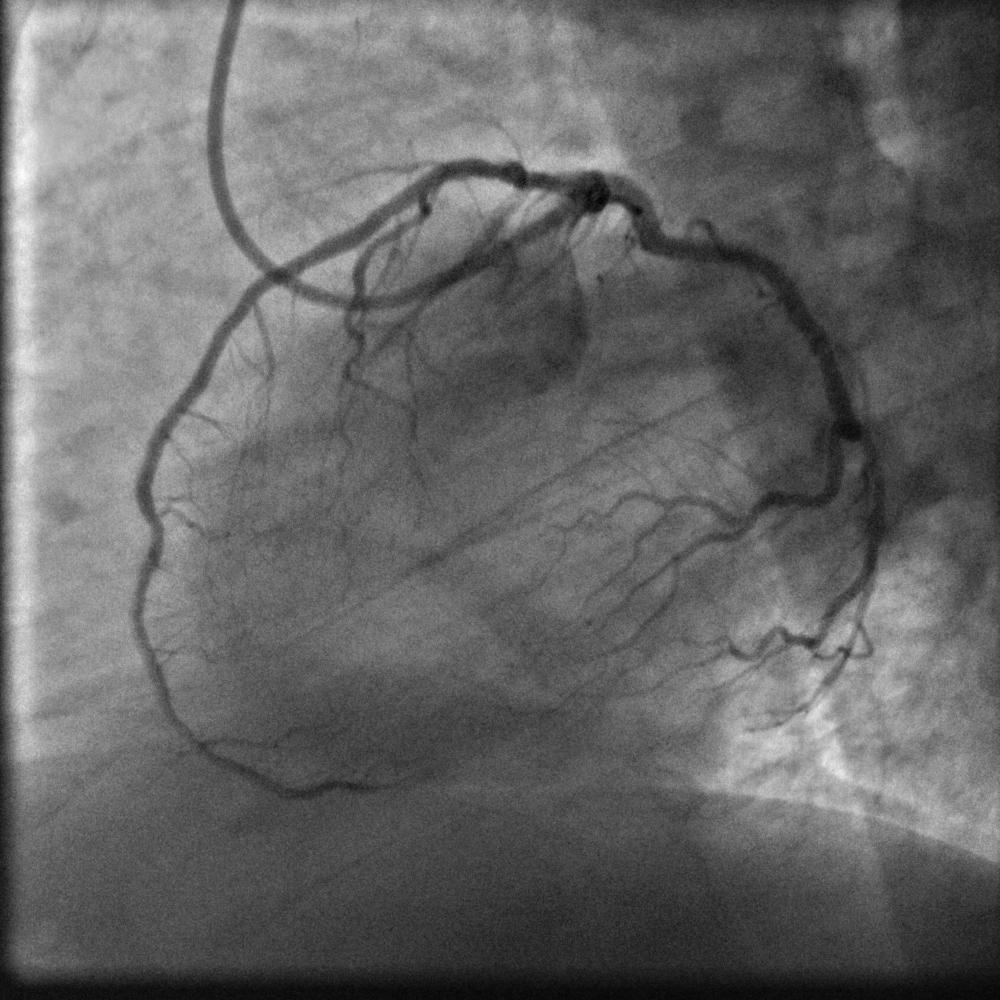Stenosis: (485, 157, 519, 187)
